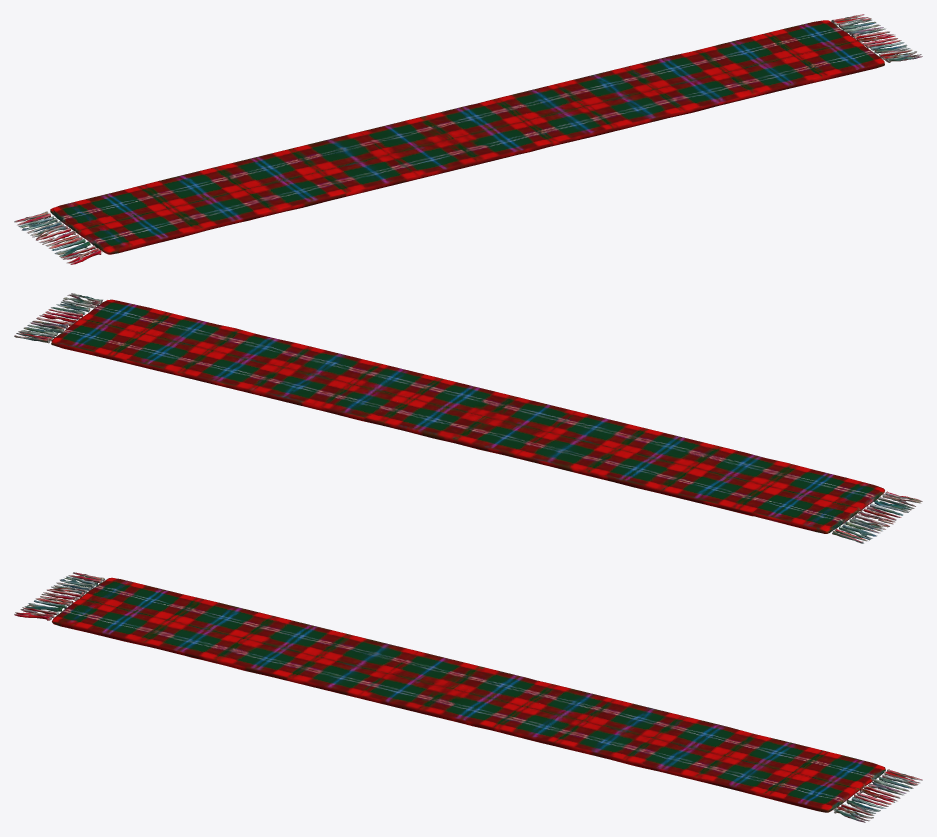
The model's file is tartan_tail.glb.
The picture shows the model from 3 angles, top to bottom: view 1: azimuth 30°, elevation 25°; view 2: azimuth 150°, elevation 25°; view 3: azimuth 330°, elevation 25°; orthographic projection.
Parts seen in each view (by area): view 1: geometry_0; view 2: geometry_0; view 3: geometry_0.
Boxes of the visible parts, box(x1,y1,x2,y2) form: geometry_0: box(14, 14, 922, 264); geometry_0: box(14, 293, 922, 543); geometry_0: box(14, 572, 922, 822).
Bounding box in the file's own units: 0.9482 × 0.00684 × 0.1157.
Materials: 1 (1 with a texture image).
